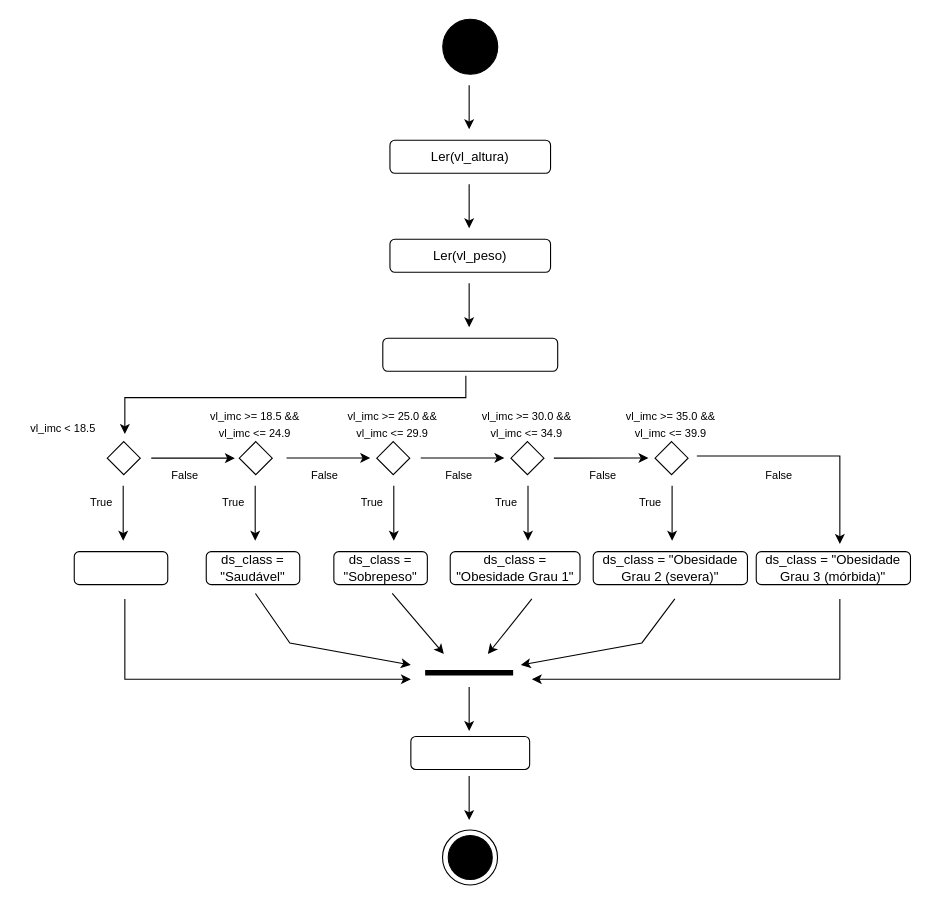
This 930x904 diagram has some shape labels left out. The shapes that lost their labels are listed below. From the top down, each one's centre as x and y in pixels, then its label:
[470,354]: vl_imc = vl_peso / vl_altura²
[120,568]: ds_class = "Magreza"
[470,752]: imprimir(ds_class)
